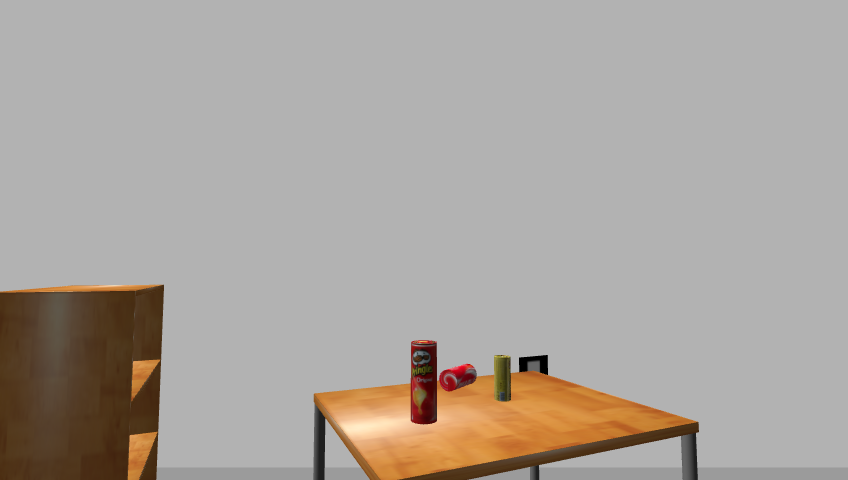aruco marker: (515, 354, 552, 378)
biscuits pack: (493, 354, 512, 402)
bookshelf: (0, 284, 172, 480)
coke can: (439, 363, 479, 394)
dinner table: (303, 371, 707, 480)
pringles can: (408, 339, 441, 426)
